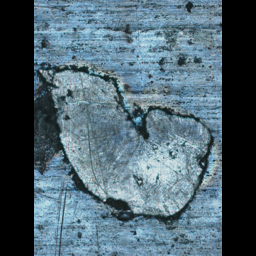d: (37, 61, 214, 223)
